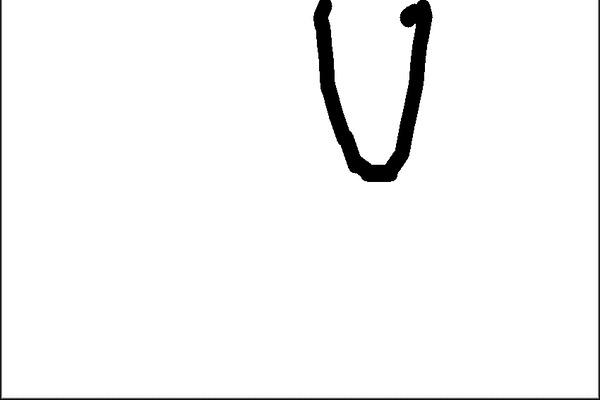U: (298, 0, 444, 186)
